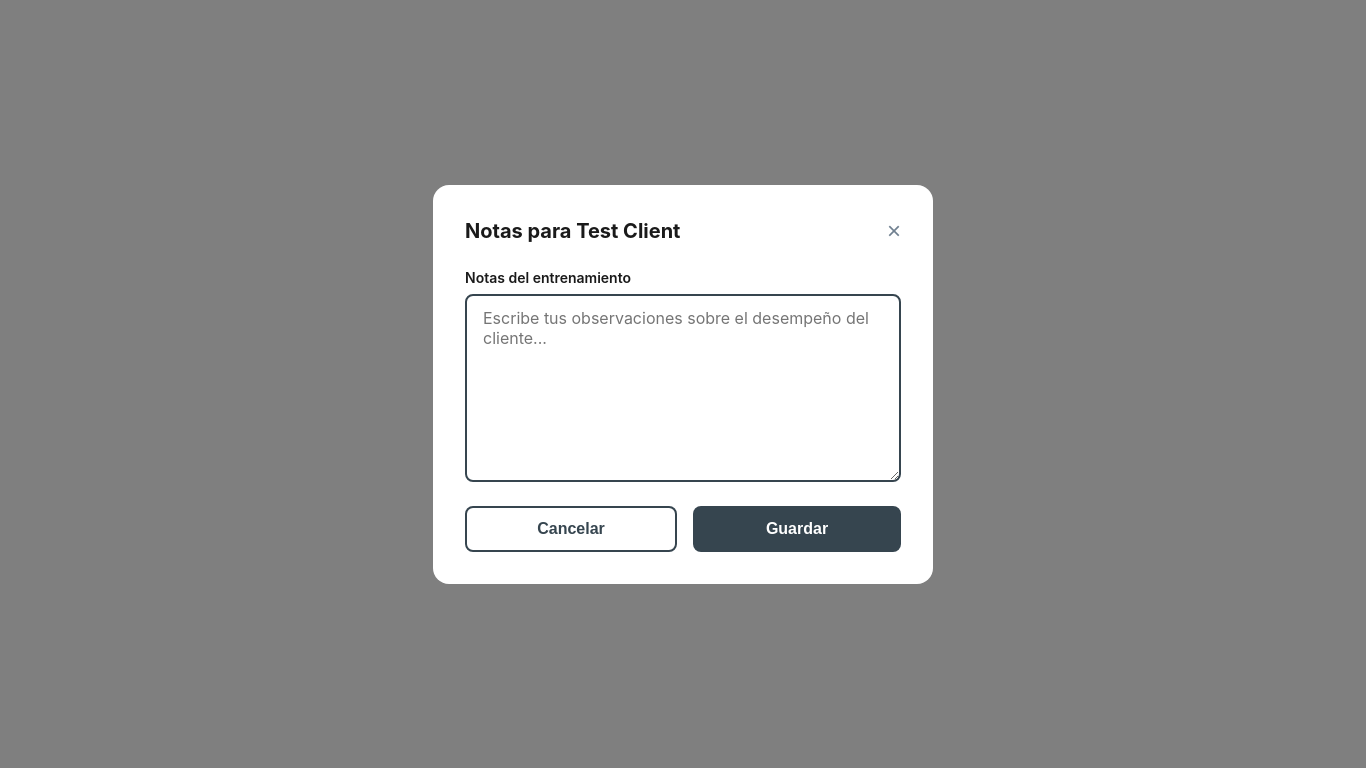
Test: NotesModal › should not close modal when save fails
This screenshot has width=1366, height=768.
In the text box: (683,388) [465,294,901,482], type "Test notes"
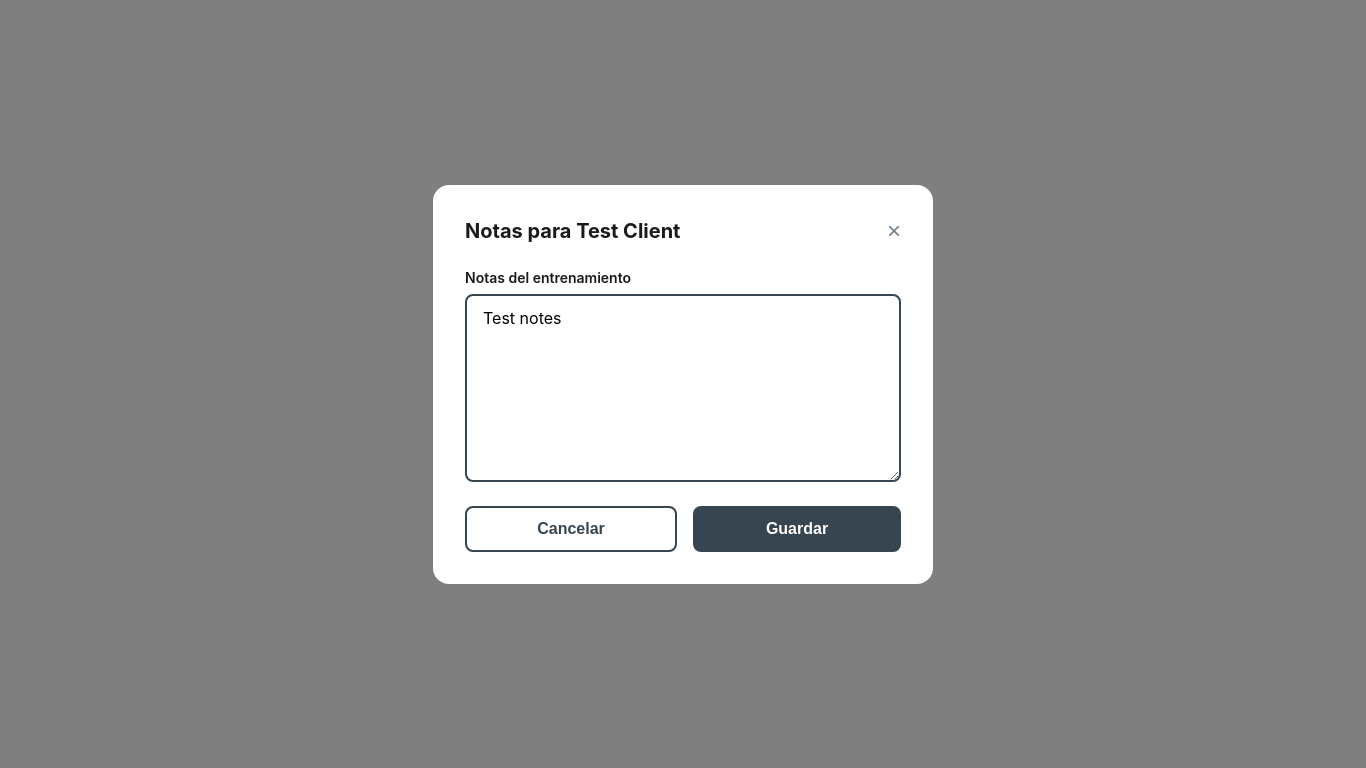
Click the button "Guardar": (797,528) [693,506,901,552]
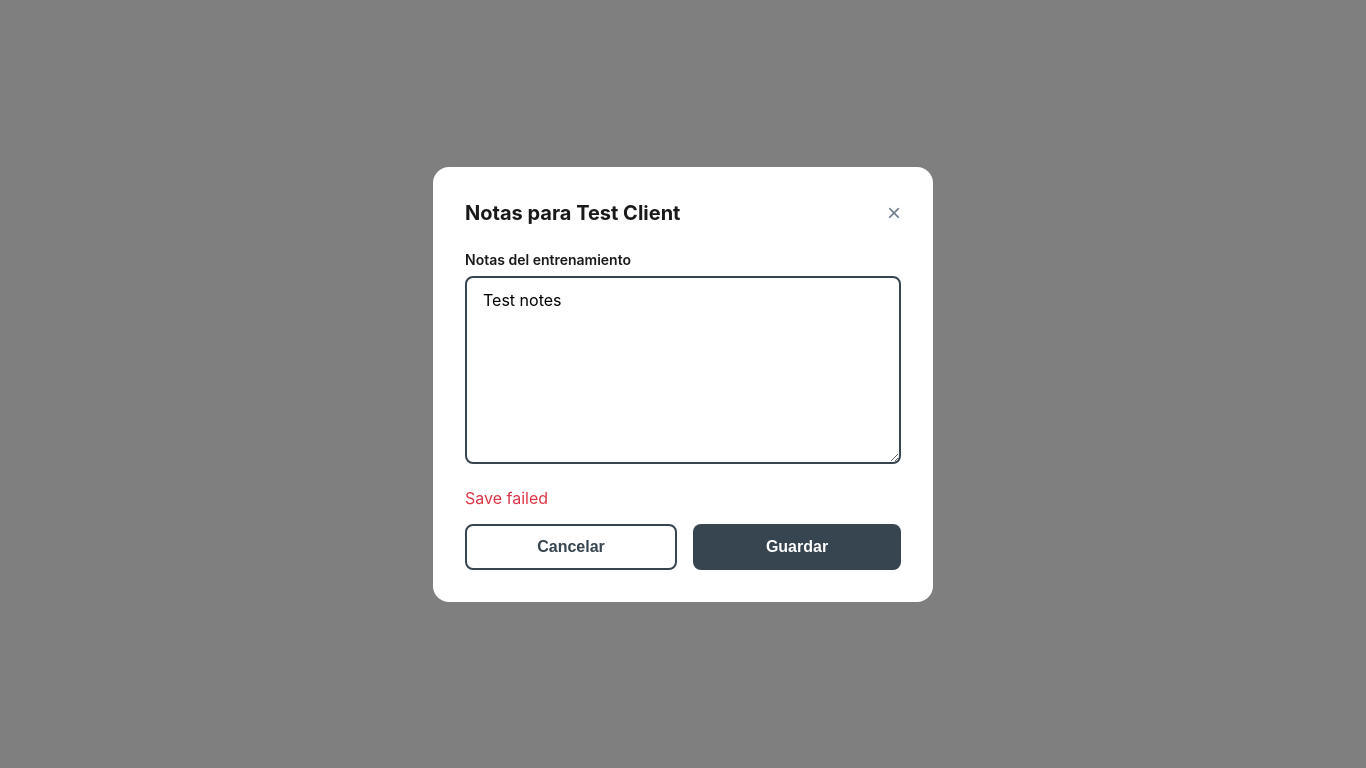
Expected: the text "Save failed" is shown, [465,488,548,508]
